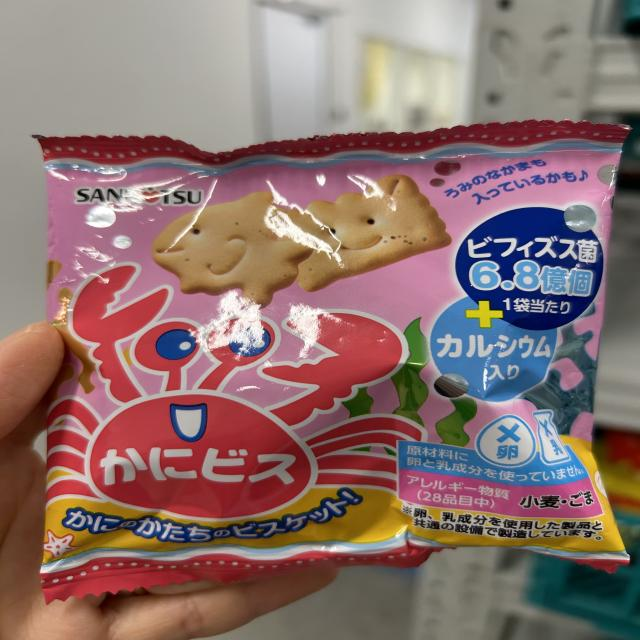object_name: (57, 143, 610, 568)
